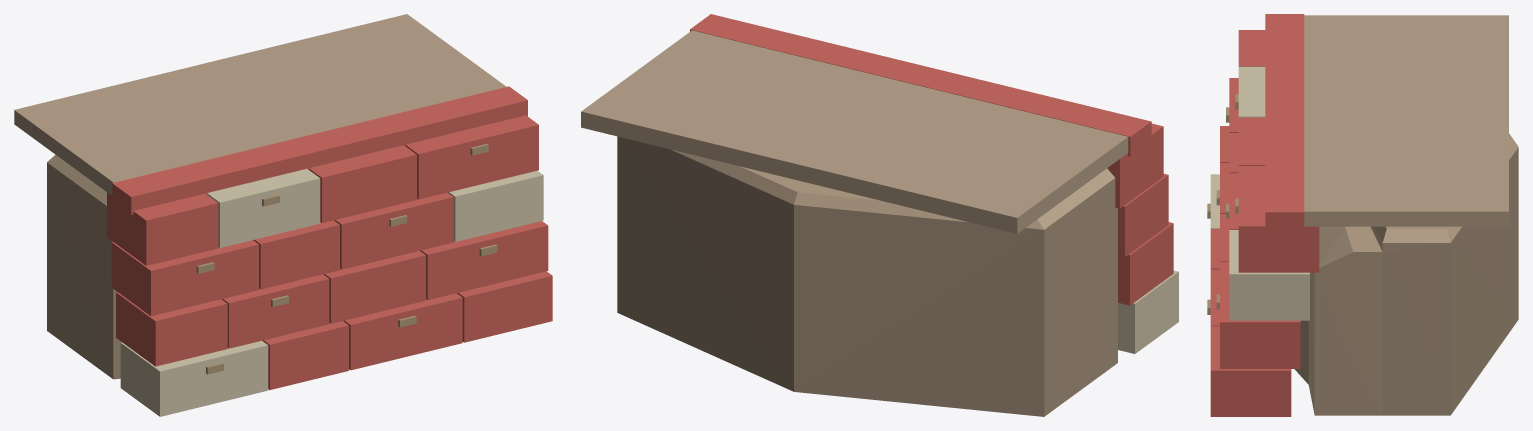
Rendered from terrace-wall-coral.glb.
The picture shows the model from 3 angles, left to right: view 1: azimuth 30°, elevation 25°; view 2: azimuth 150°, elevation 25°; view 3: azimuth 270°, elevation 25°; orthographic projection. The views are drawn at different scales.
Visible parts, largest first — view 1: terrace-wall-coral; view 2: terrace-wall-coral; view 3: terrace-wall-coral.
Part boxes in pixels (bbox=[...]): terrace-wall-coral: bbox=[14, 14, 552, 416]; terrace-wall-coral: bbox=[581, 14, 1178, 416]; terrace-wall-coral: bbox=[1207, 14, 1518, 416].
Size of the model in its own units: 6.04 by 2.93 by 4.01.
